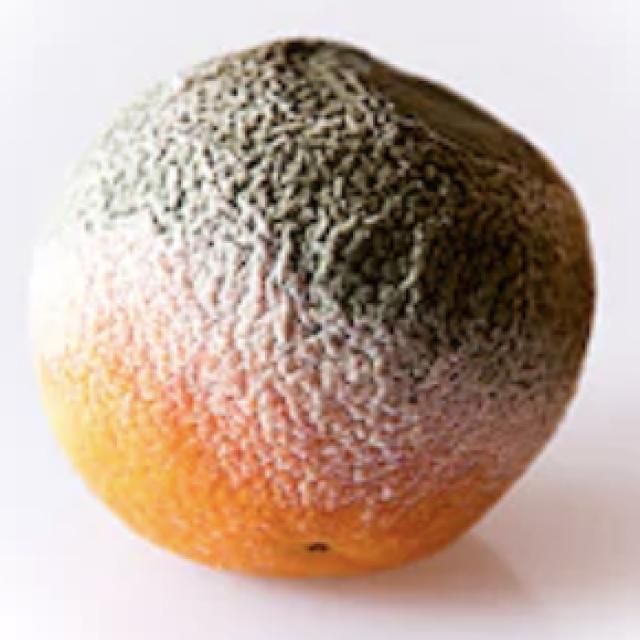sangat-busuk: (71, 39, 593, 528)
